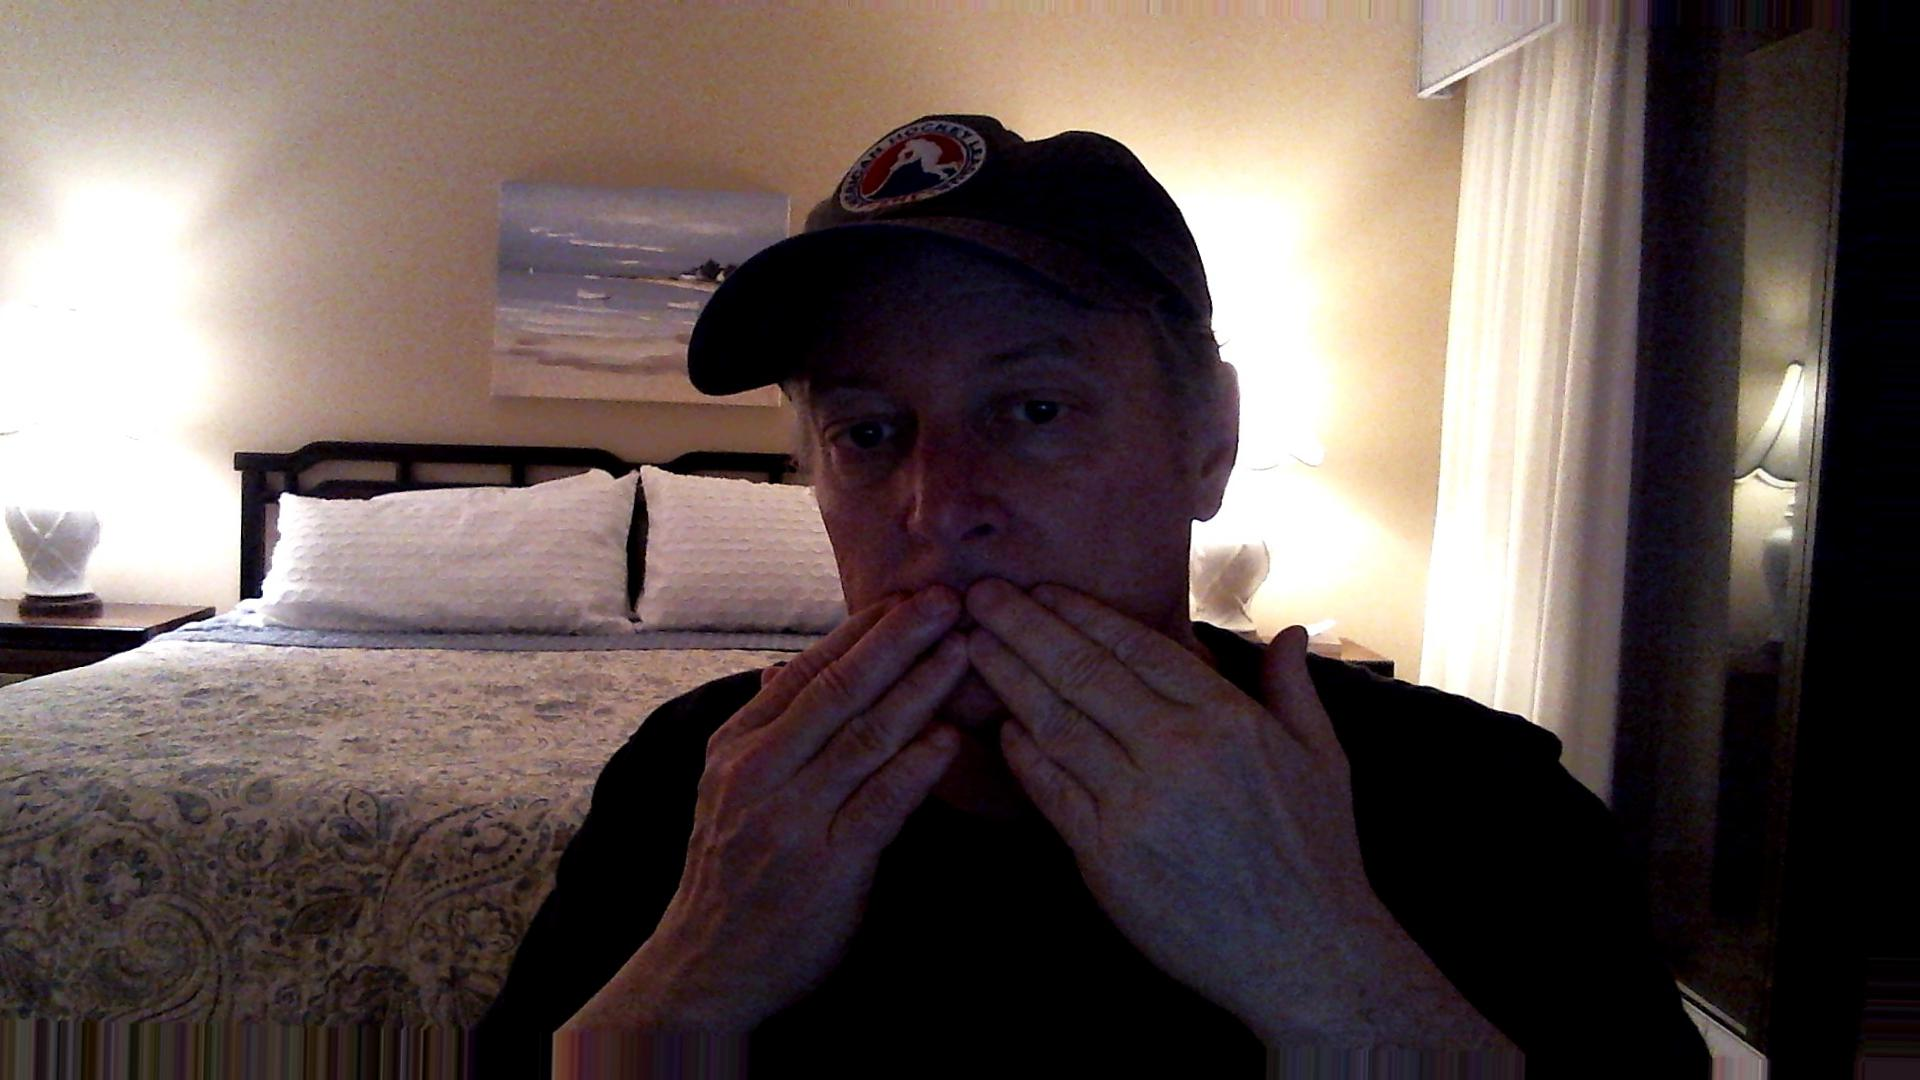Thank You: (665, 558, 1414, 984)
